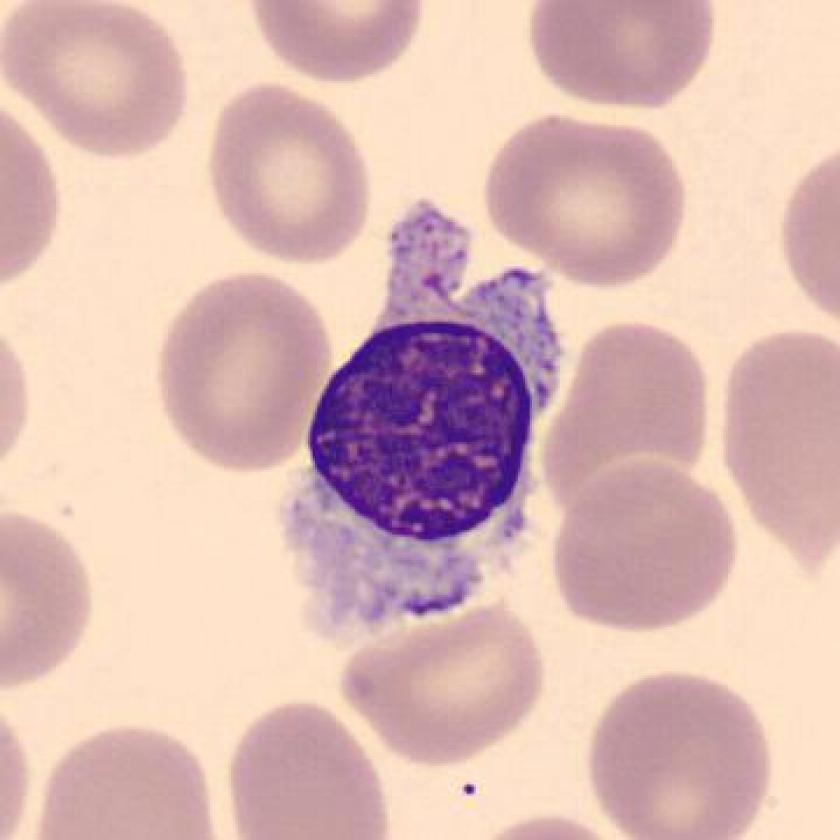lymphocyte: (269, 191, 580, 654)
